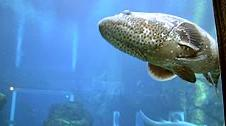Serranidae -Groupers-: (94, 6, 223, 100)
